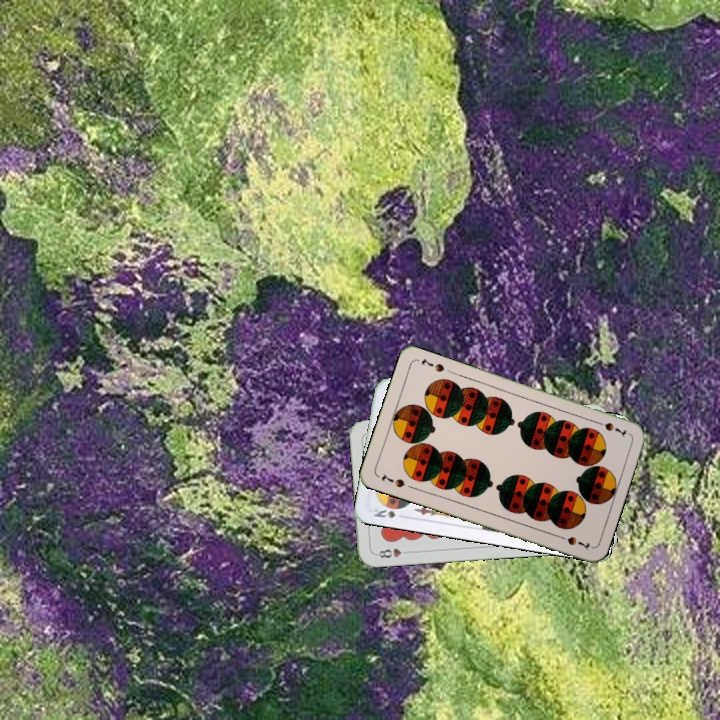H8: (372, 544, 413, 560)
S7: (591, 417, 629, 439), (377, 469, 408, 490)
SK: (369, 501, 407, 521)
